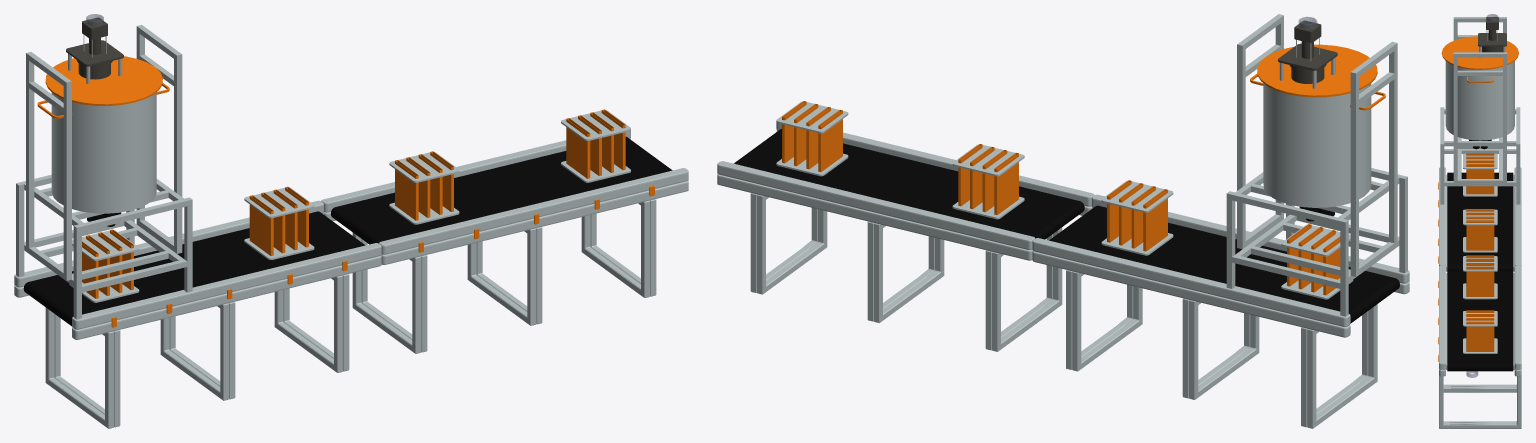
The picture shows the model from 3 angles, left to right: view 1: azimuth 30°, elevation 25°; view 2: azimuth 150°, elevation 25°; view 3: azimuth 270°, elevation 25°; orthographic projection. The views are drawn at different scales.
Visible parts, largest first — view 1: Circle494, Rectangle491, Rectangle450, Rectangle479, Rectangle438, Rectangle422, Circle495, Rectangle439, Rectangle480, Rectangle420, Rectangle478, Rectangle488 (+26 smaller); view 2: Circle494, Rectangle491, Rectangle450, Rectangle488, Rectangle447, Rectangle422, Rectangle449, Rectangle490, Circle495, Rectangle420, Rectangle478, Rectangle479 (+26 smaller); view 3: Rectangle491, Circle494, Rectangle450, Rectangle420, Circle495, Rectangle492, Rectangle513, Rectangle496, Rectangle507, Rectangle488, Rectangle426, Rectangle479 (+31 smaller).
Part boxes in pixels (x1,y1,x2,y2): Circle494: (51, 92, 156, 213); Rectangle491: (331, 136, 672, 244); Rectangle450: (23, 211, 365, 326); Rectangle479: (379, 168, 688, 254); Rectangle438: (72, 243, 381, 329); Rectangle422: (26, 52, 71, 280); Circle495: (45, 56, 162, 105); Rectangle439: (72, 255, 381, 339); Rectangle480: (381, 180, 688, 264); Rectangle420: (136, 25, 182, 253); Rectangle478: (45, 307, 113, 428); Rectangle488: (321, 130, 630, 212); Circle494: (1263, 83, 1371, 207); Rectangle491: (734, 129, 1084, 239); Rectangle450: (1049, 205, 1399, 323); Rectangle488: (717, 161, 1034, 249); Rectangle447: (1032, 238, 1350, 326); Rectangle422: (1350, 41, 1397, 276); Rectangle449: (1032, 251, 1350, 337); Rectangle490: (717, 174, 1032, 260); Circle495: (1257, 44, 1377, 97); Rectangle420: (1237, 14, 1283, 249); Rectangle478: (1307, 304, 1377, 428); Rectangle479: (776, 122, 1094, 206); Rectangle491: (1447, 271, 1513, 371); Circle494: (1445, 61, 1514, 140); Rectangle450: (1447, 172, 1513, 270); Rectangle420: (1453, 52, 1506, 184); Circle495: (1441, 36, 1518, 69); Rectangle492: (1439, 369, 1521, 428); Rectangle513: (1466, 321, 1494, 351); Rectangle496: (1466, 266, 1494, 296); Rectangle507: (1466, 220, 1494, 250); Rectangle488: (1514, 265, 1521, 369); Rectangle426: (1440, 109, 1520, 146); Rectangle479: (1439, 265, 1445, 369).
Bounding box in the file's own units: 138 × 80.45 × 24.73.
